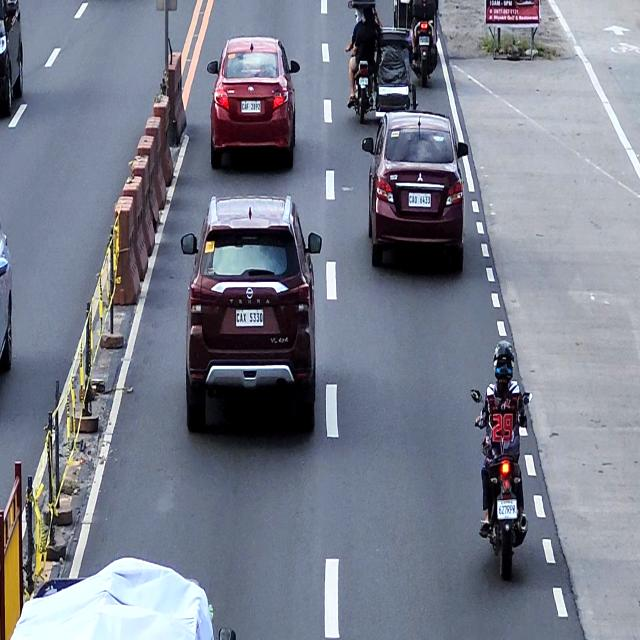Car: (181, 193, 322, 439), (361, 109, 468, 280), (208, 35, 300, 173), (0, 0, 24, 118)
License-Plate: (235, 309, 264, 327), (496, 498, 517, 520), (408, 192, 431, 208), (241, 100, 261, 114), (419, 36, 430, 47), (358, 76, 369, 86)
Motorcycle: (471, 385, 535, 584), (412, 0, 438, 92)
Tricycle: (346, 0, 418, 124)
